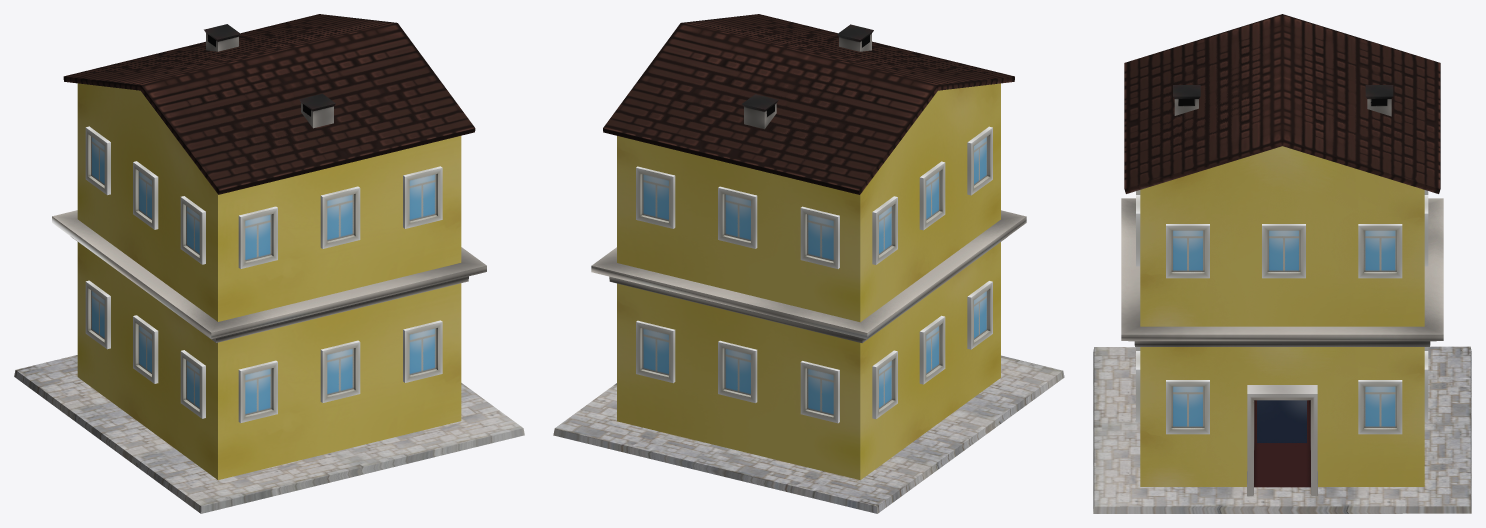
The model's file is classic-building-triangular-roof.fbx.
3 renders of one model, left to right at view 1: azimuth 30°, elevation 25°; view 2: azimuth 150°, elevation 25°; view 3: azimuth 270°, elevation 25°, orthographic.
Parts seen in each view (by area): view 1: wallls_cb, wallls_cb_1, triangular_roof_buildings, sidewalk, flat_roof, window_cb_18, window_cb_6, window_cb_8, window_cb_20, window_cb_19, window_cb_7, window_cb_21 (+7 smaller); view 2: wallls_cb, wallls_cb_1, triangular_roof_buildings, sidewalk, flat_roof, window_cb_2, window_cb_14, window_cb_13, window_cb_12, window_cb_1, window_cb, window_cb_21 (+7 smaller); view 3: triangular_roof_buildings, wallls_cb_1, wallls_cb, sidewalk, flat_roof, door_cb, window_cb_16, window_cb_4, window_cb_17, window_cb_15, window_cb_5, chimney_cb (+1 smaller).
Boxes of the visible parts, x1,y1,x2,y2 form: wallls_cb: (77,242,461,479); wallls_cb_1: (77,83,461,321); triangular_roof_buildings: (63,14,475,194); sidewalk: (14,355,524,513); flat_roof: (52,210,486,342); window_cb_18: (320,186,360,248); window_cb_6: (320,340,360,402); window_cb_8: (238,360,277,423); window_cb_20: (238,206,277,268); window_cb_19: (403,166,442,228); window_cb_7: (403,320,442,382); window_cb_21: (133,161,158,229); wallls_cb: (617,242,1000,480); wallls_cb_1: (617,83,1000,322); triangular_roof_buildings: (603,14,1014,194); sidewalk: (553,355,1064,513); flat_roof: (591,210,1026,343); window_cb_2: (636,320,675,383); window_cb_14: (636,166,675,228); window_cb_13: (800,206,839,268); window_cb_12: (718,186,757,248); window_cb_1: (800,361,839,423); window_cb: (718,340,757,403); window_cb_21: (919,161,945,230); triangular_roof_buildings: (1124,14,1440,193); wallls_cb_1: (1140,146,1424,326); wallls_cb: (1140,347,1424,486); sidewalk: (1093,346,1471,513); flat_roof: (1121,198,1443,346); door_cb: (1247,385,1317,496); window_cb_16: (1358,224,1402,278); window_cb_4: (1358,380,1402,434); window_cb_17: (1166,224,1209,278); window_cb_15: (1262,224,1305,278); window_cb_5: (1166,380,1209,434); chimney_cb: (1365,85,1393,116).
Bounding box in the file's own units: 787 × 818 × 787.
Materials: 7 (7 with a texture image).
